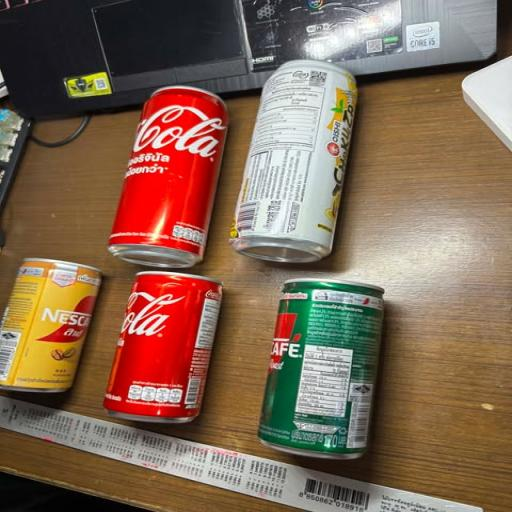canned: (232, 49, 375, 269), (248, 274, 400, 478), (91, 66, 229, 270), (102, 262, 236, 444), (0, 248, 110, 412)
